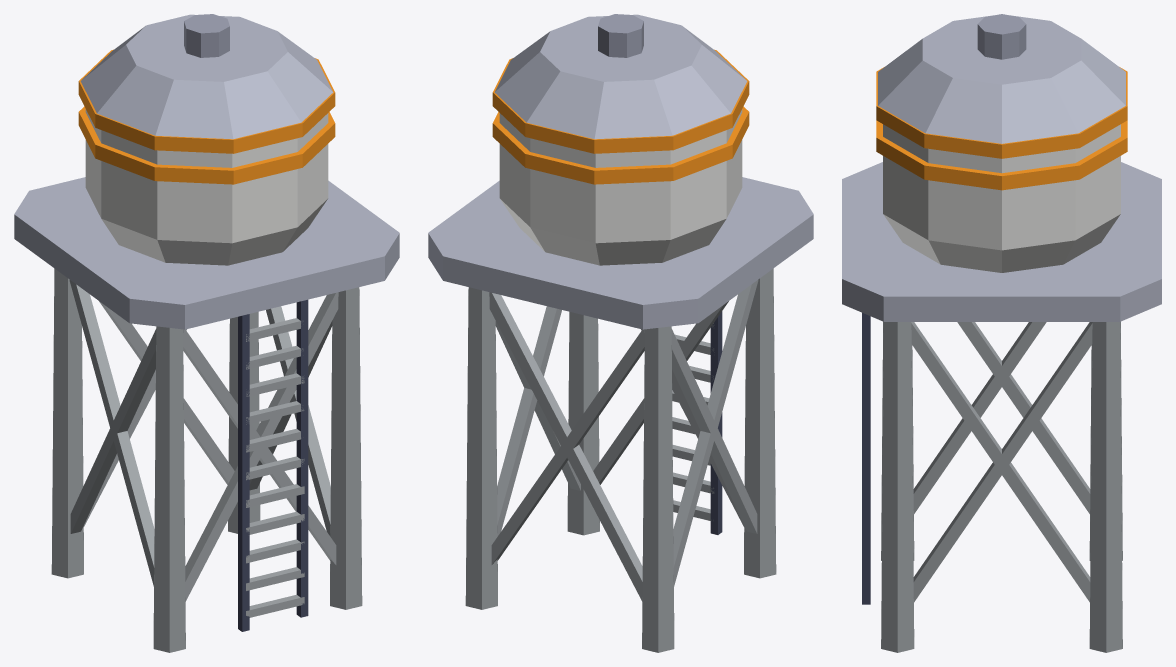
Rendered from watertower-1x1-t2-tone-a.glb.
3 renders of one model, left to right at view 1: azimuth 30°, elevation 25°; view 2: azimuth 150°, elevation 25°; view 3: azimuth 270°, elevation 25°, orthographic. The views are drawn at different scales.
Parts seen in each view (by area): view 1: watertower-1x1-t2-tone-a; view 2: watertower-1x1-t2-tone-a; view 3: watertower-1x1-t2-tone-a.
Boxes of the visible parts, <box> form: watertower-1x1-t2-tone-a: <box>14,14,399,652</box>; watertower-1x1-t2-tone-a: <box>428,14,813,652</box>; watertower-1x1-t2-tone-a: <box>842,14,1161,652</box>.
Bounding box in the file's own units: 0.92 × 1.83 × 0.92.
Materials: 1 (1 with a texture image).
